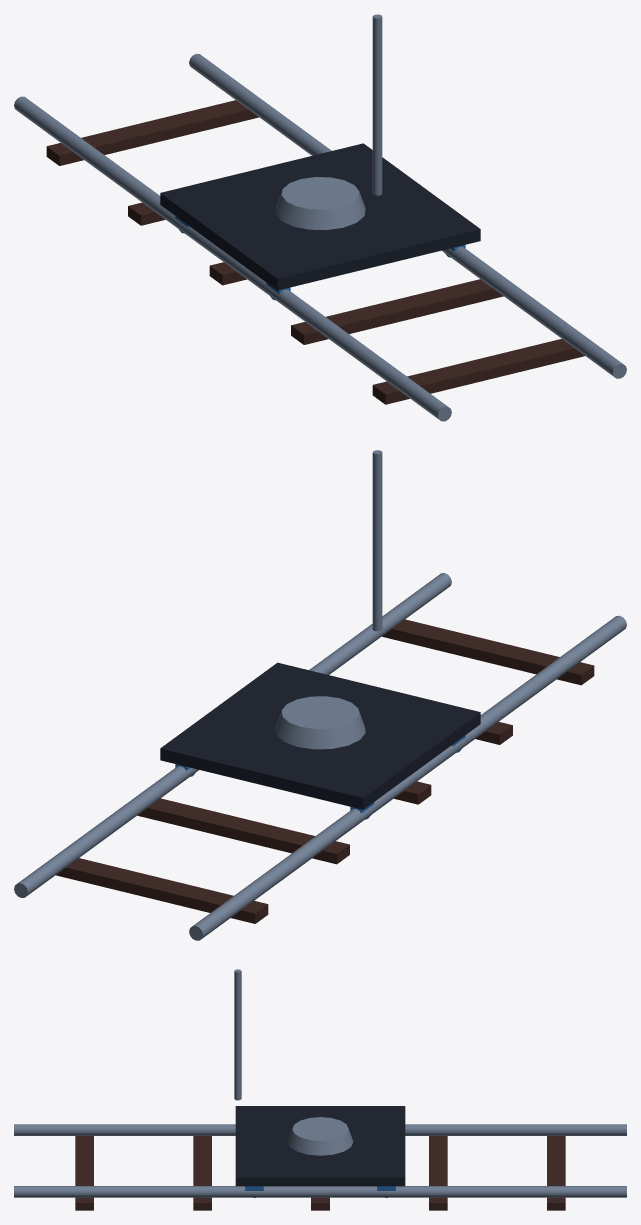
The model's file is camera_dolly_track.glb.
The picture shows the model from 3 angles, top to bottom: view 1: azimuth 30°, elevation 25°; view 2: azimuth 150°, elevation 25°; view 3: azimuth 270°, elevation 25°; orthographic projection. The views are drawn at different scales.
Parts seen in each view (by area): view 1: CameraDolly; view 2: CameraDolly; view 3: CameraDolly.
Part boxes in pixels (x1,y1,x2,y2): CameraDolly: (14, 14, 626, 421); CameraDolly: (14, 450, 626, 940); CameraDolly: (14, 969, 626, 1210).
Bounding box in the file's own units: 0.74 × 0.9495 × 2.6.
